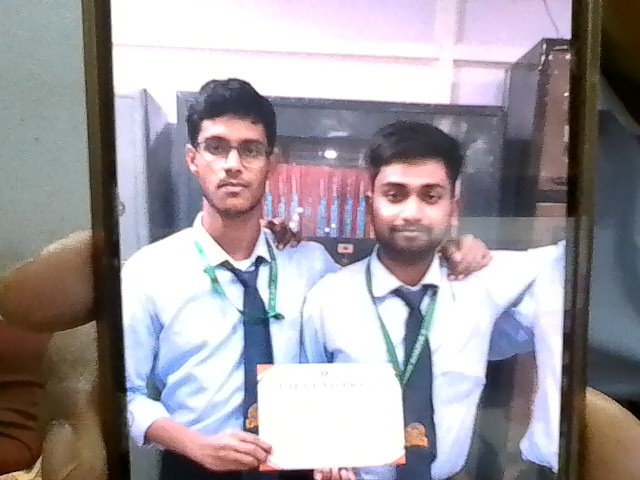real: (354, 111, 466, 270), (177, 71, 286, 225)
